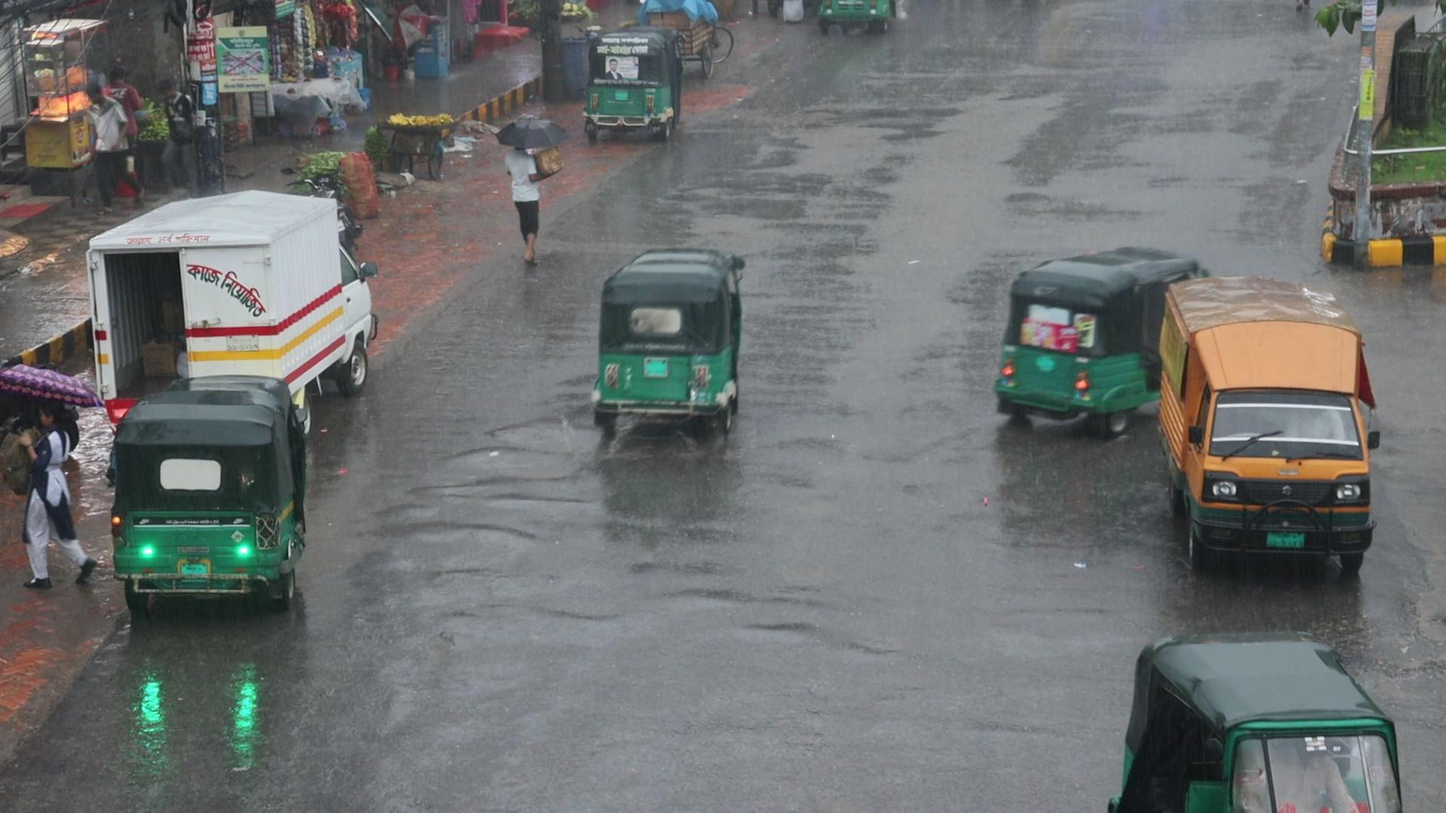Truck: (1152, 274, 1384, 579)
